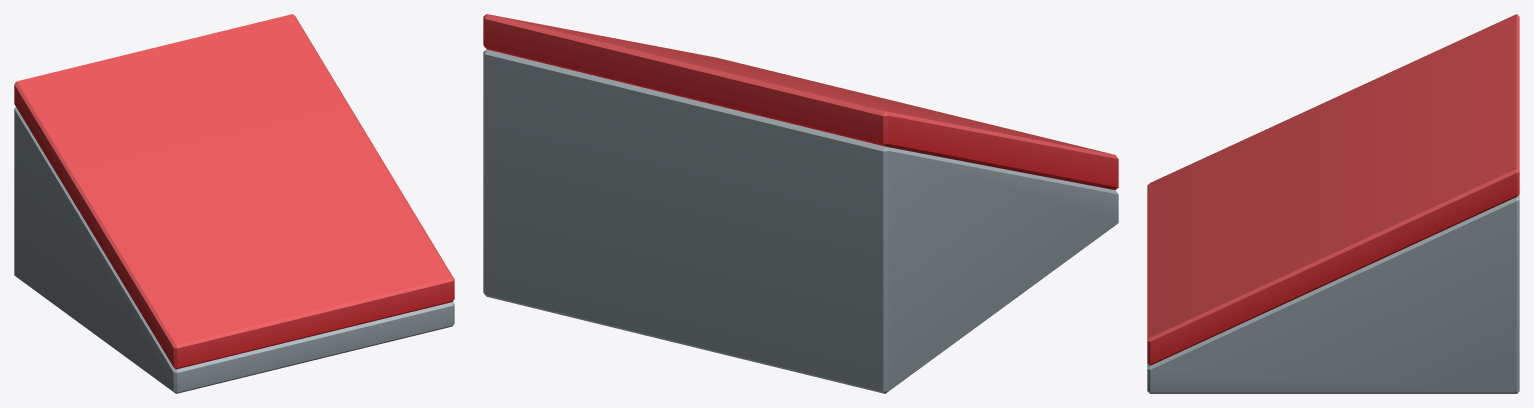
Rendered from platform_slope_6x6x4_red.glb.
The picture shows the model from 3 angles, left to right: view 1: azimuth 30°, elevation 25°; view 2: azimuth 150°, elevation 25°; view 3: azimuth 270°, elevation 25°; orthographic projection. The views are drawn at different scales.
Visible parts, largest first — view 1: platform_slope_6x6x4_red; view 2: platform_slope_6x6x4_red; view 3: platform_slope_6x6x4_red.
Part boxes in pixels (x1,y1,x2,y2): platform_slope_6x6x4_red: (14, 14, 454, 393); platform_slope_6x6x4_red: (483, 14, 1118, 393); platform_slope_6x6x4_red: (1147, 14, 1519, 393).
Bounding box in the file's own units: 6 × 4 × 6.
1 material, 1 textured.
